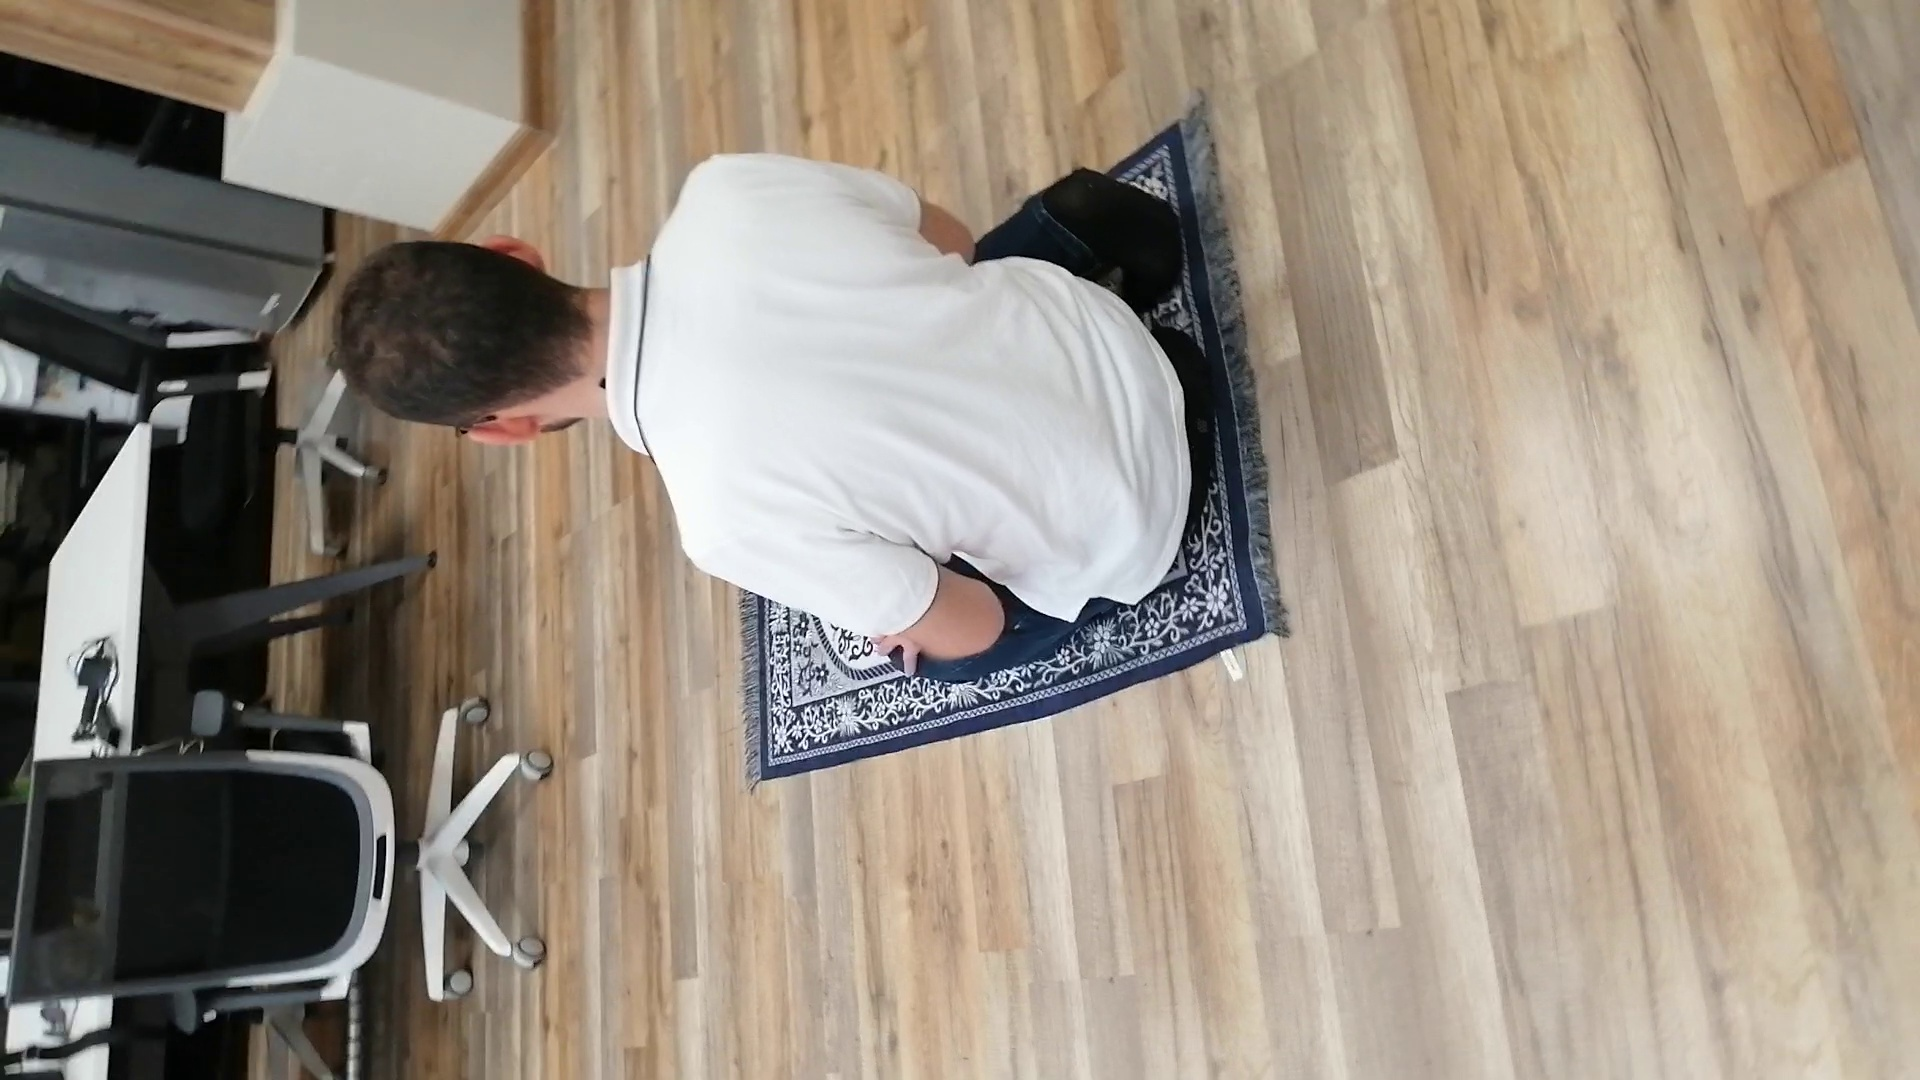sitting: (326, 138, 1230, 676)
